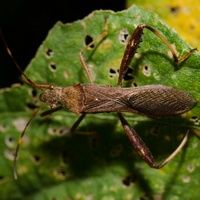insect: (0, 5, 199, 199)
